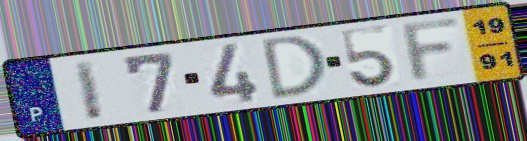4: (206, 39, 263, 106)
5: (337, 22, 400, 91)
7: (119, 50, 178, 115)
D: (261, 33, 331, 103)
F: (398, 13, 466, 86)
I: (70, 57, 108, 124)
